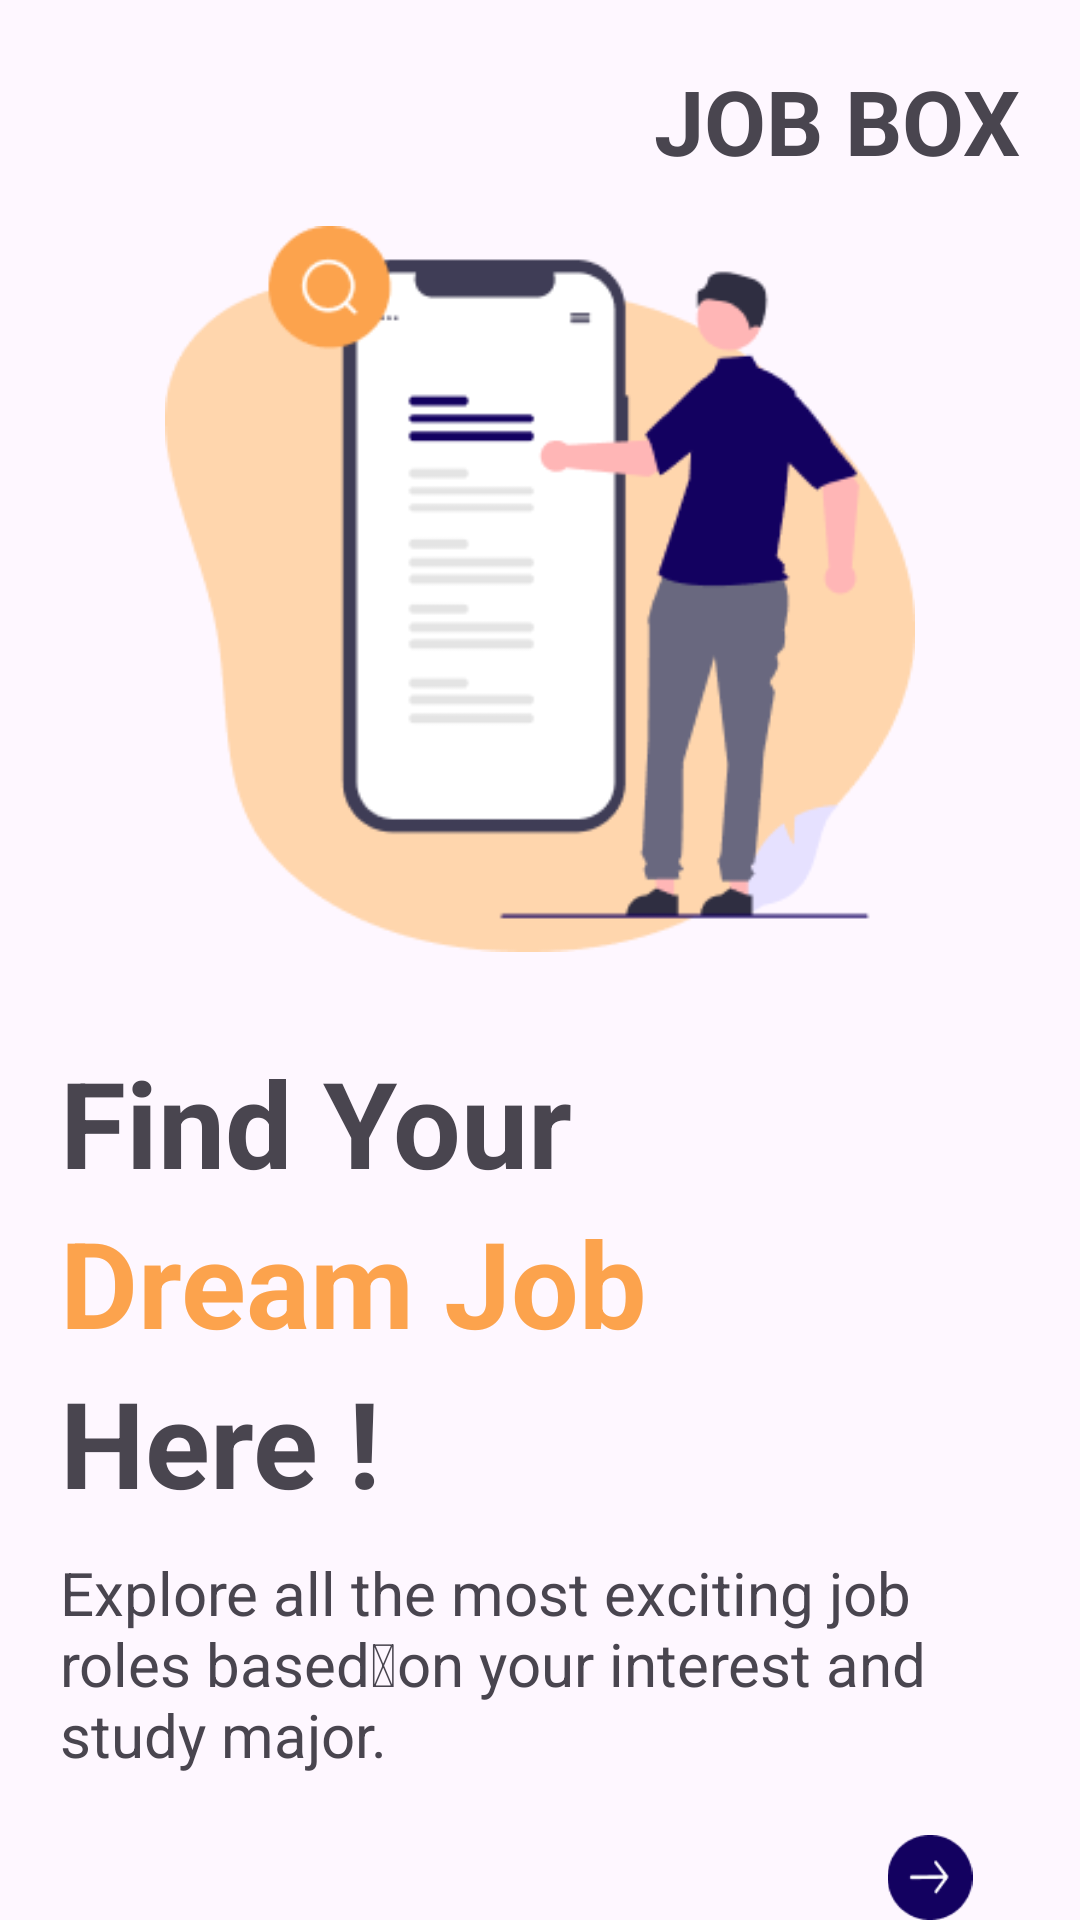

Point at icon controls on the screen. Image size 1080px×1920px, points as point (x, y).
rightarrow: point (930, 1877)
